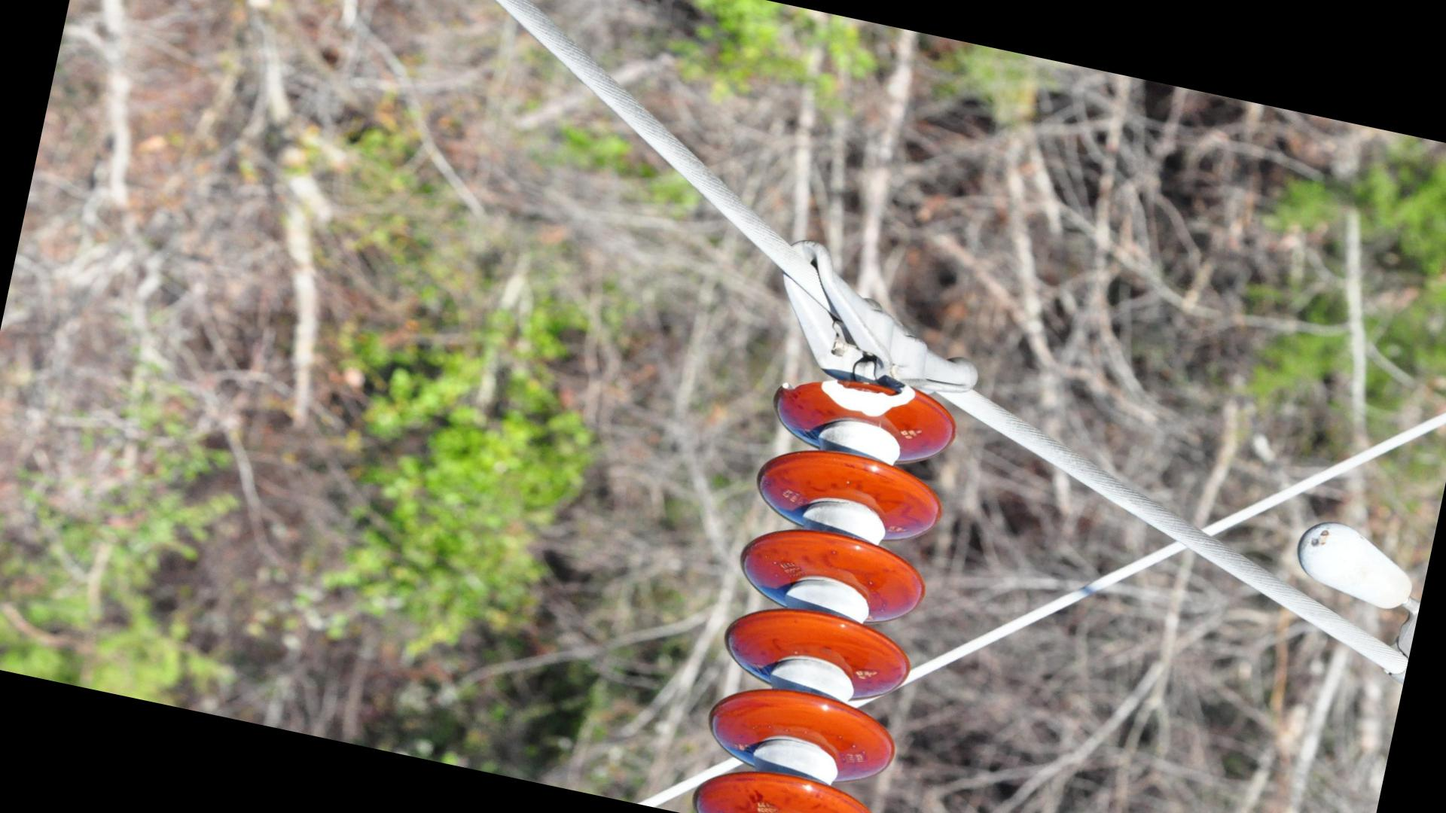damper: (1261, 503, 1446, 704)
